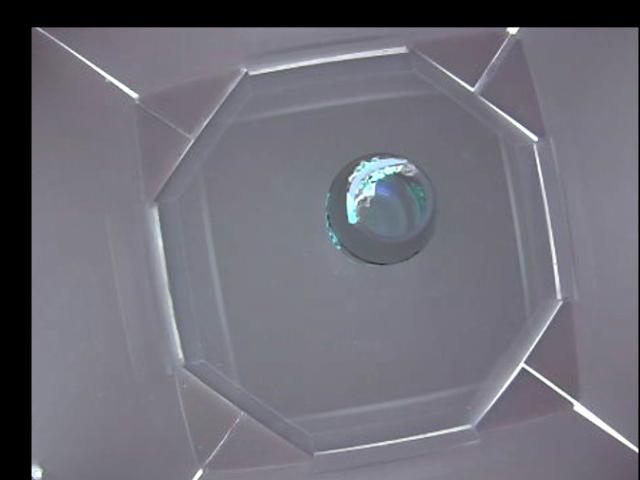Bottle: (327, 153, 432, 266)
